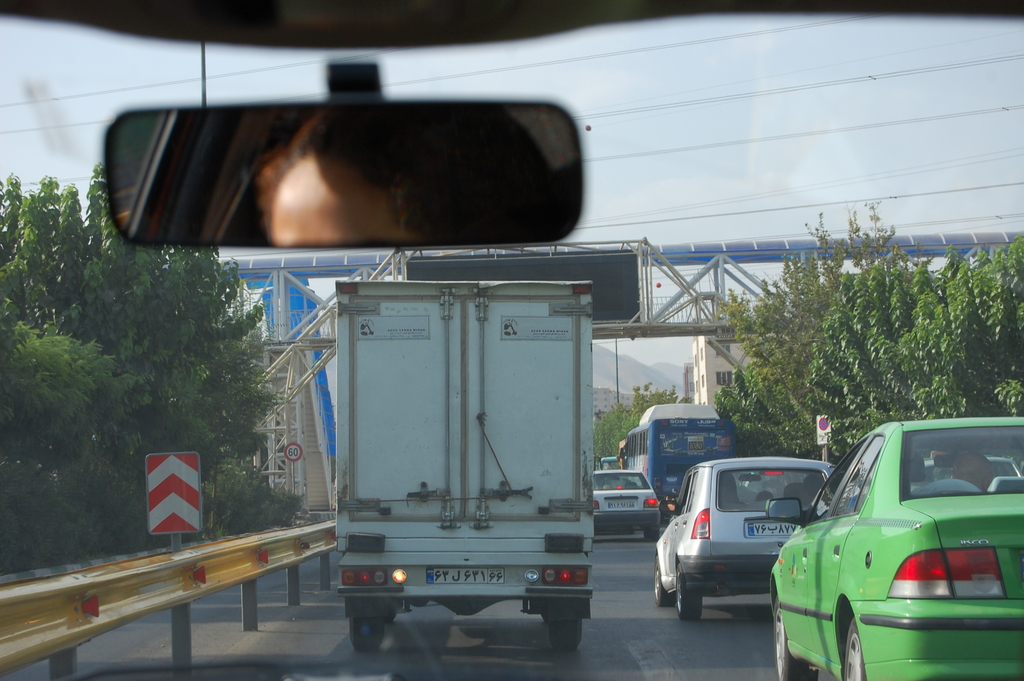Car: (770, 415, 1018, 681), (643, 454, 833, 621), (592, 465, 665, 539)
